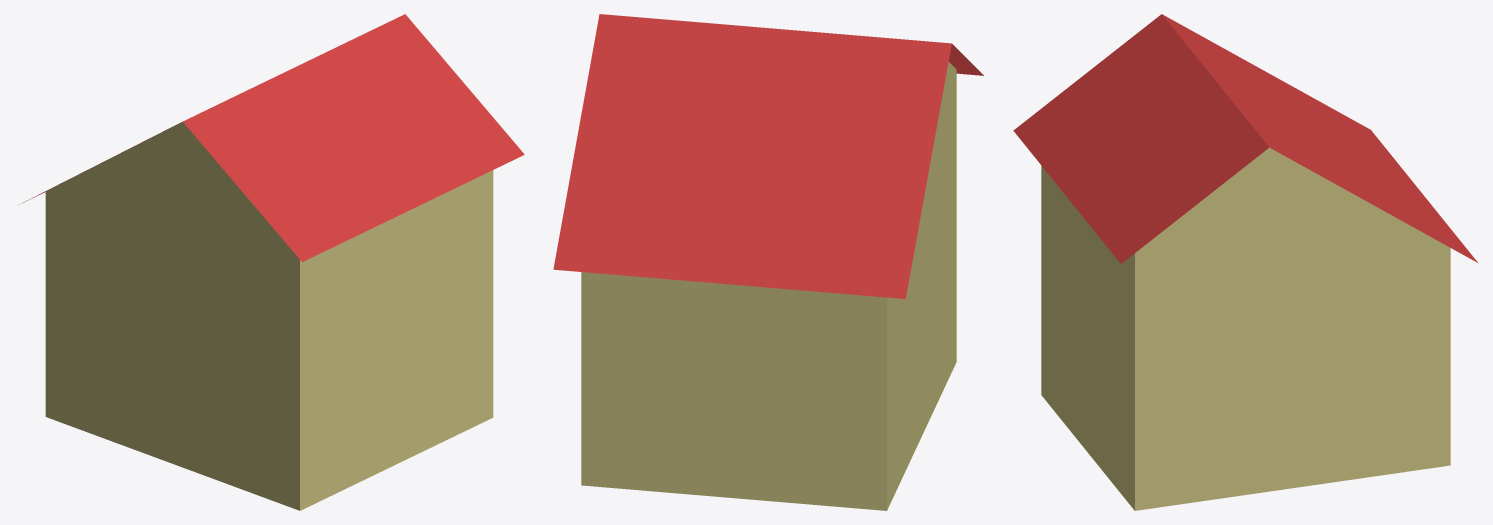
3 renders of one model, left to right at view 1: azimuth 30°, elevation 25°; view 2: azimuth 150°, elevation 25°; view 3: azimuth 270°, elevation 25°, orthographic. The views are drawn at different scales.
Bounding box in the file's own units: 14.82 × 15.75 × 13.22.
